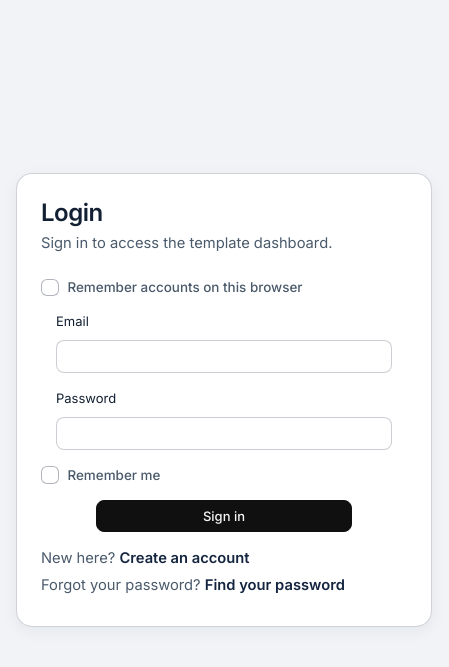
LoginPage › shows remaining attempts message when backend returns INVALID_CREDENTIALS
# login is attempted with wrong password.
Type "seeded-primary@example.com" into the field labelled "Email" at {"x": 224, "y": 356}, box [56, 340, 392, 373]
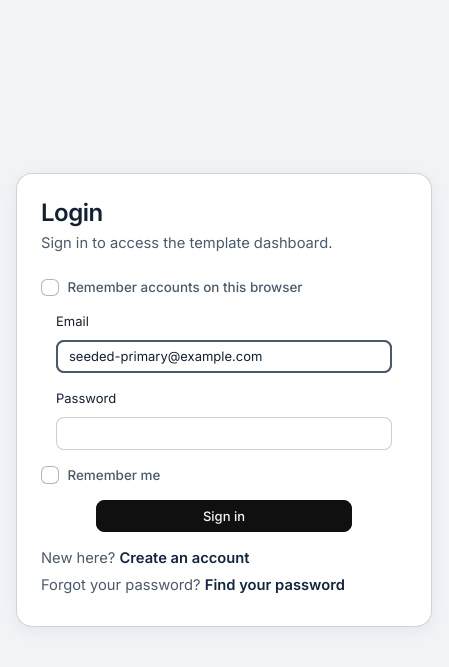
Type "WrongPass1!" into the password field labelled "Password" at {"x": 224, "y": 433}, box [56, 417, 392, 450]
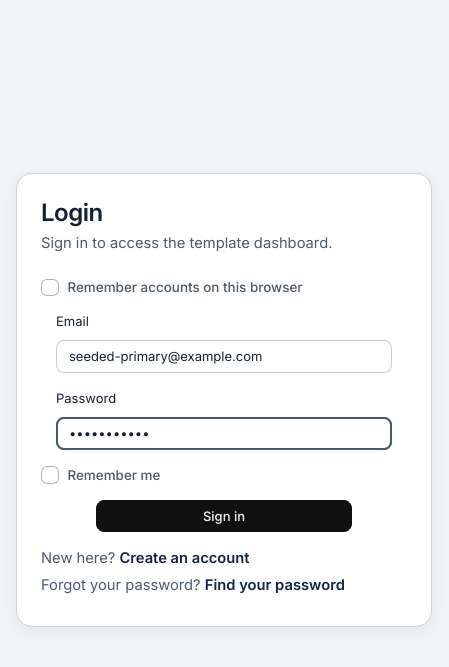
Click the button "Sign in" at {"x": 224, "y": 516}, box [96, 500, 352, 532]
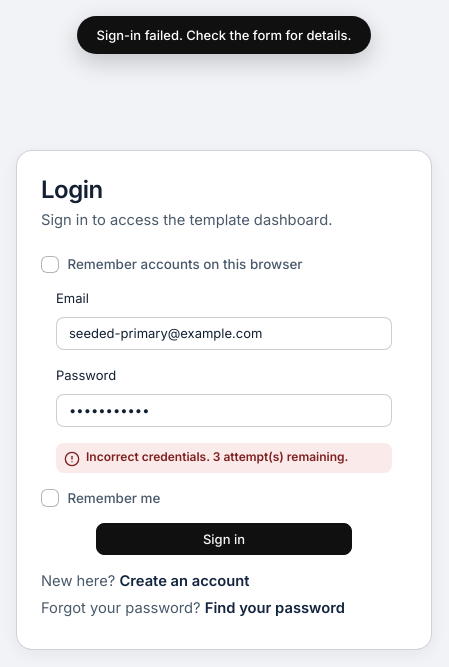
Check: the text "Incorrect credentials. 3 attempt(s) remaining." is shown, box [86, 449, 384, 466]
